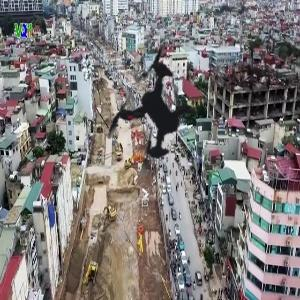drone: (61, 18, 247, 204)
